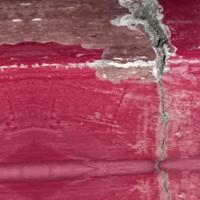crack: (101, 2, 196, 196)
